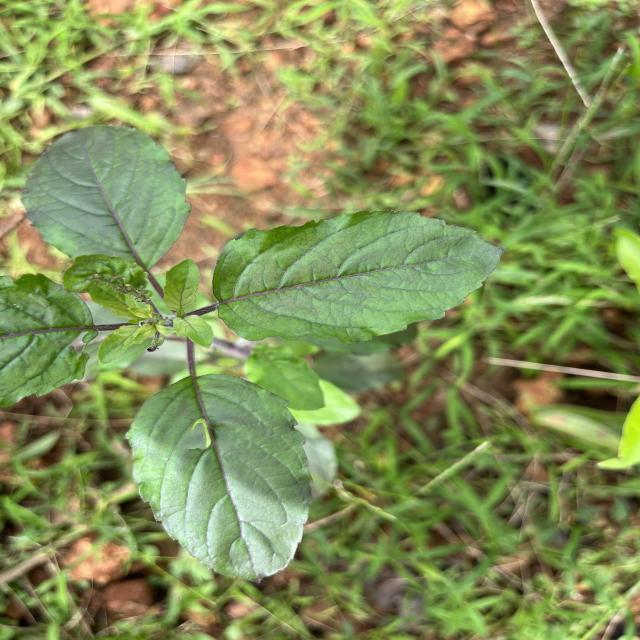Ocimum tenuiflorum: (114, 366, 320, 588), (205, 205, 512, 348)
